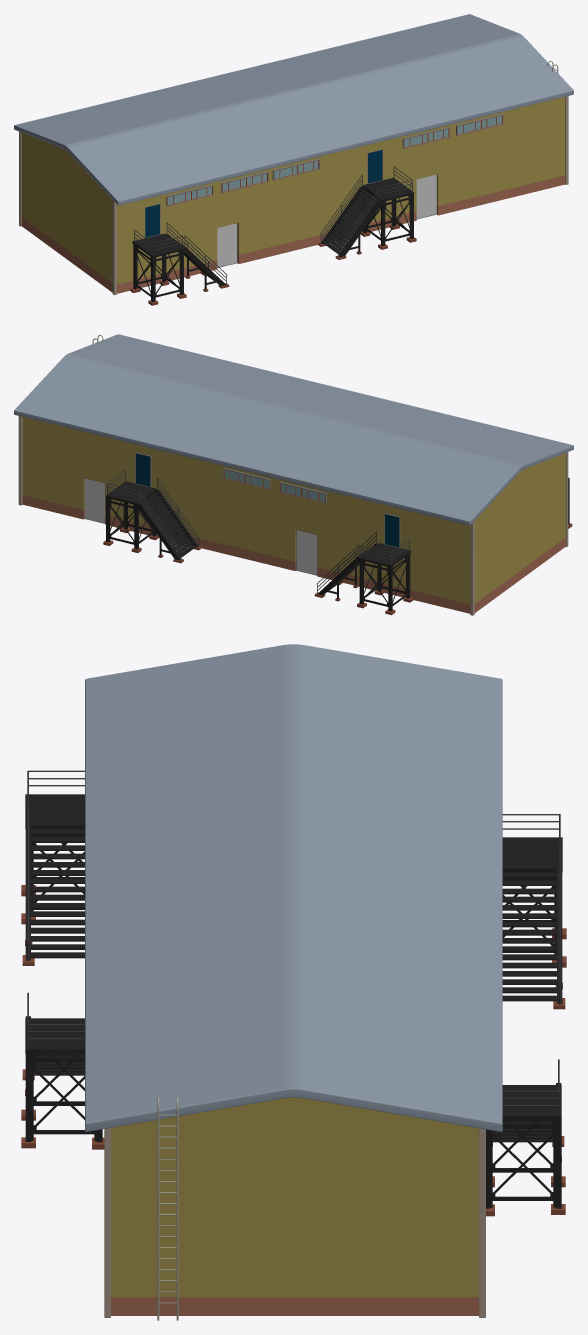
The model's file is Barrack_big_high.fbx.
3 renders of one model, top to bottom at view 1: azimuth 30°, elevation 25°; view 2: azimuth 150°, elevation 25°; view 3: azimuth 270°, elevation 25°, orthographic. The views are drawn at different scales.
Parts seen in each view (by area): view 1: Barrack_Big; view 2: Barrack_Big; view 3: Barrack_Big.
Boxes of the visible parts, x1,y1,x2,y2 form: Barrack_Big: [14, 14, 573, 305]; Barrack_Big: [14, 334, 573, 615]; Barrack_Big: [21, 644, 566, 1320].
Bounding box in the file's own units: 3043 × 729 × 1567.
